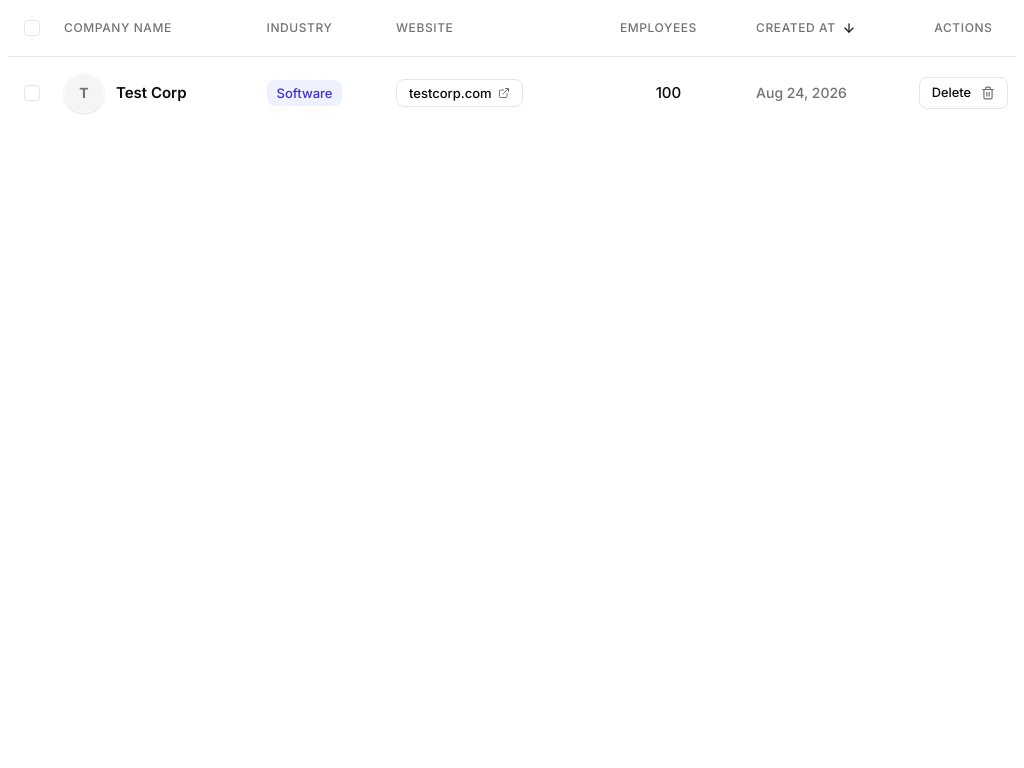
Scenario: CompanyTable › handles delete confirmation dialog
The image size is (1024, 768).
# Open delete dialog
Click the button "Delete" at [963, 93], box [919,77,1008,109]
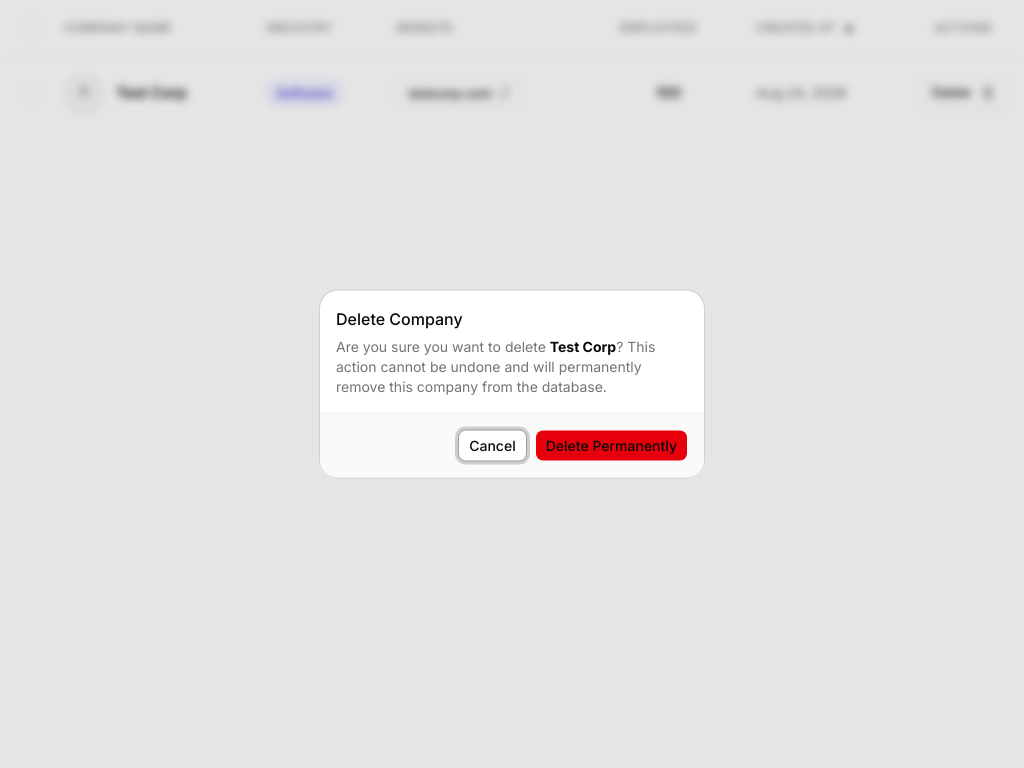
Check: the text "Are you sure you want to delete" is shown, box [336,338,546,354]
